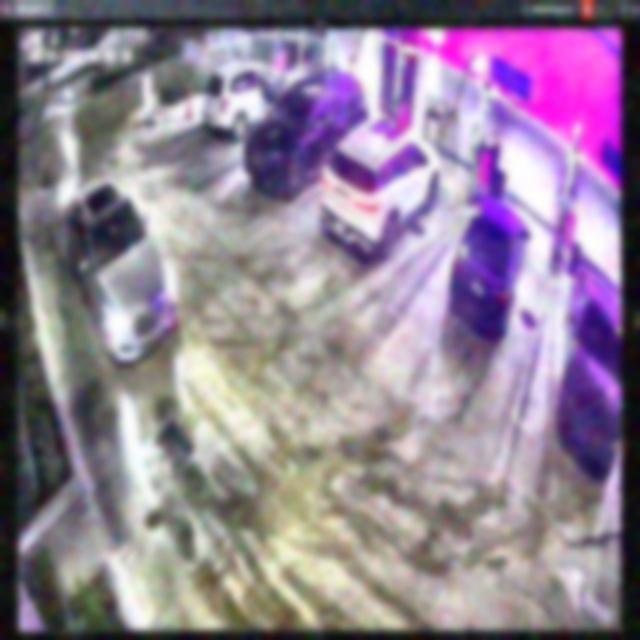Car: (66, 171, 180, 361), (320, 114, 440, 258), (243, 66, 368, 197), (449, 193, 531, 339)
